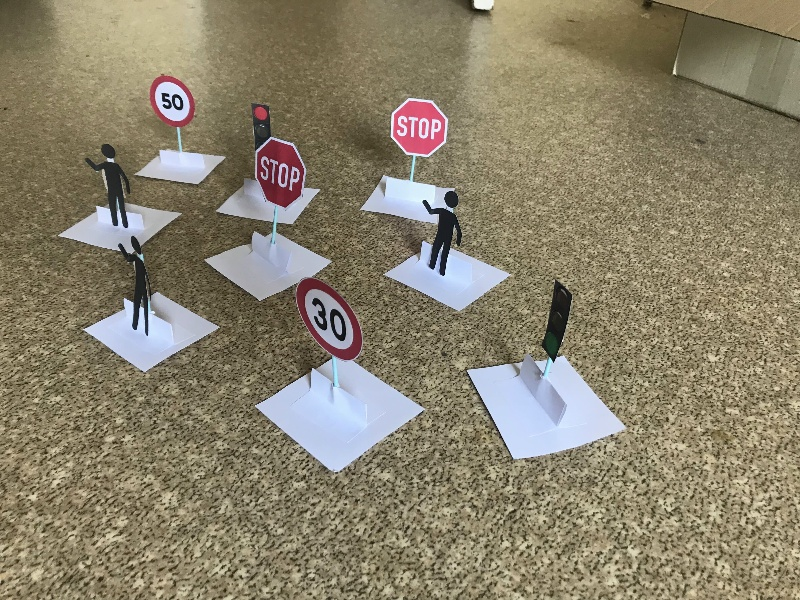green light: (536, 279, 575, 399)
person: (114, 239, 153, 339), (85, 142, 130, 228), (421, 192, 466, 278)
red light: (248, 103, 277, 148)
speed limit 30: (293, 275, 357, 410)
speed limit 50: (150, 76, 196, 165)
stop sign: (388, 94, 450, 203), (254, 140, 305, 265)
